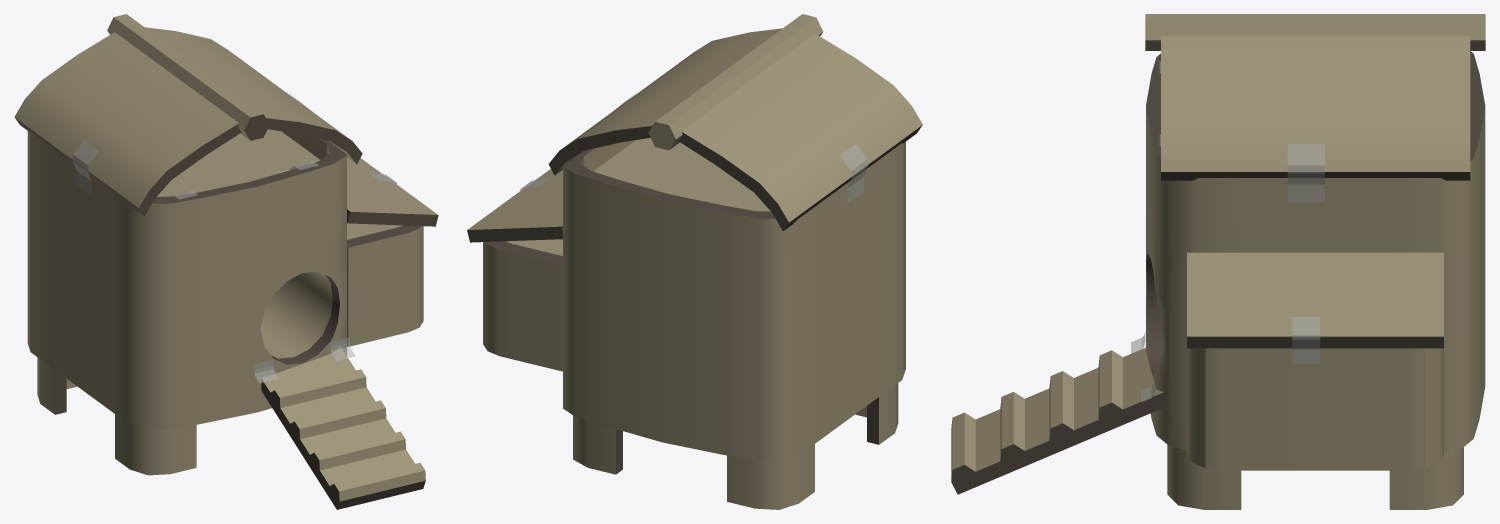
File: HenHouse.fbx
3 views of the same model, side by side, from view 1: azimuth 30°, elevation 25°; view 2: azimuth 150°, elevation 25°; view 3: azimuth 270°, elevation 25° (orthographic). The views are drawn at different scales.
Parts seen in each view (by area): view 1: HenHouseModel; view 2: HenHouseModel; view 3: HenHouseModel.
Boxes of the visible parts, x1,y1,x2,y2 form: HenHouseModel: (14,14,438,509); HenHouseModel: (467,14,922,509); HenHouseModel: (951,14,1485,509).
Bounding box in the file's own units: 144 × 153 × 173.
